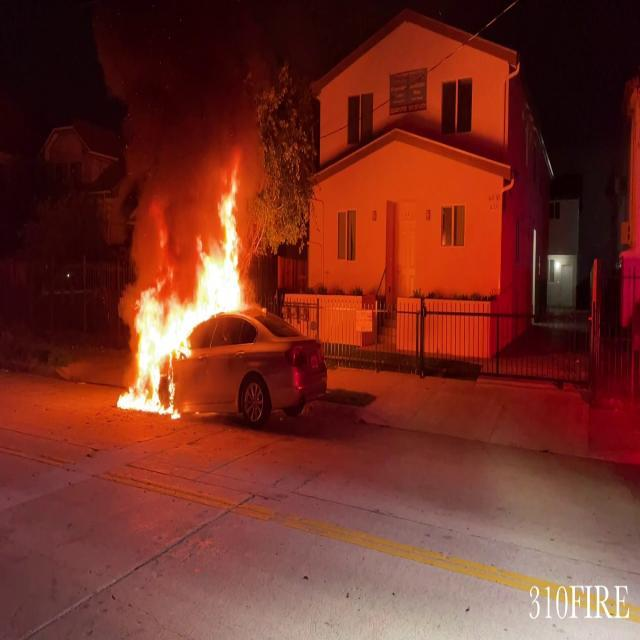Fire: (114, 167, 260, 416)
Smoke: (82, 1, 254, 239)
